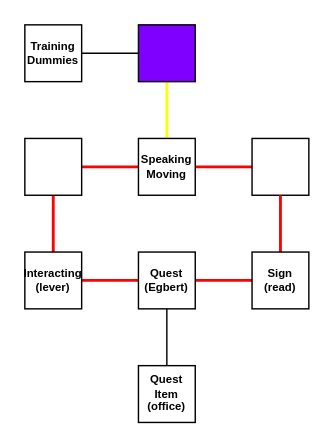
This 334x447 diagram has some shape labels left out. The centre of each missing label's shape, as x and y in pixels:
"Examining (wall)" belongs at point (52, 166).
"Exit" belongs at point (166, 52).
"Key (unlocks yellow)" belongs at point (280, 166).
